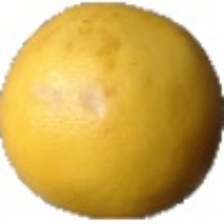grapes: (36, 38, 185, 179)
